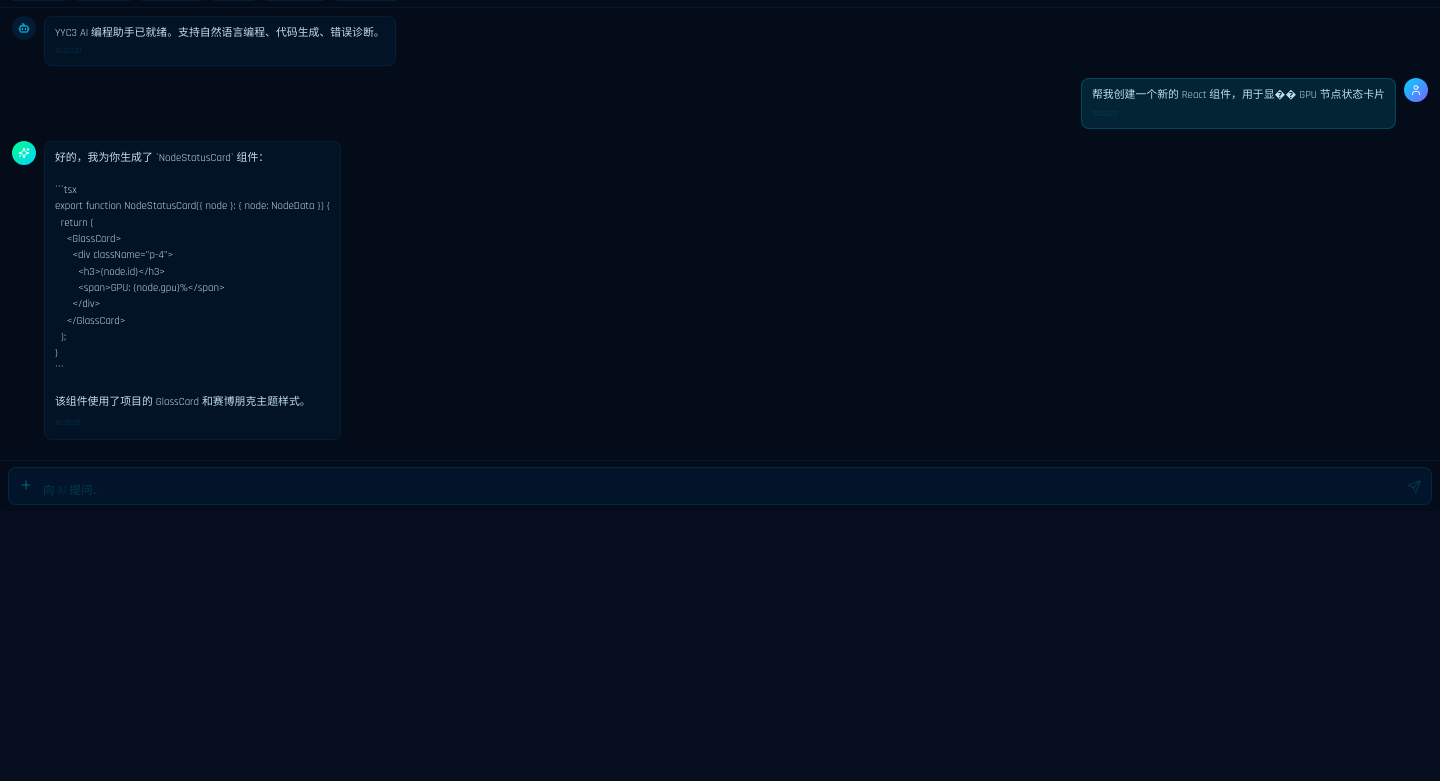
AIChatPanel › 发送消息 › 点击发送按钮发送并收到 AI 回复
Type "请为这段代码生成单元测试" into the text box with placeholder "向 AI 提问..." at point(720, 491), box [43,482,1397,500]
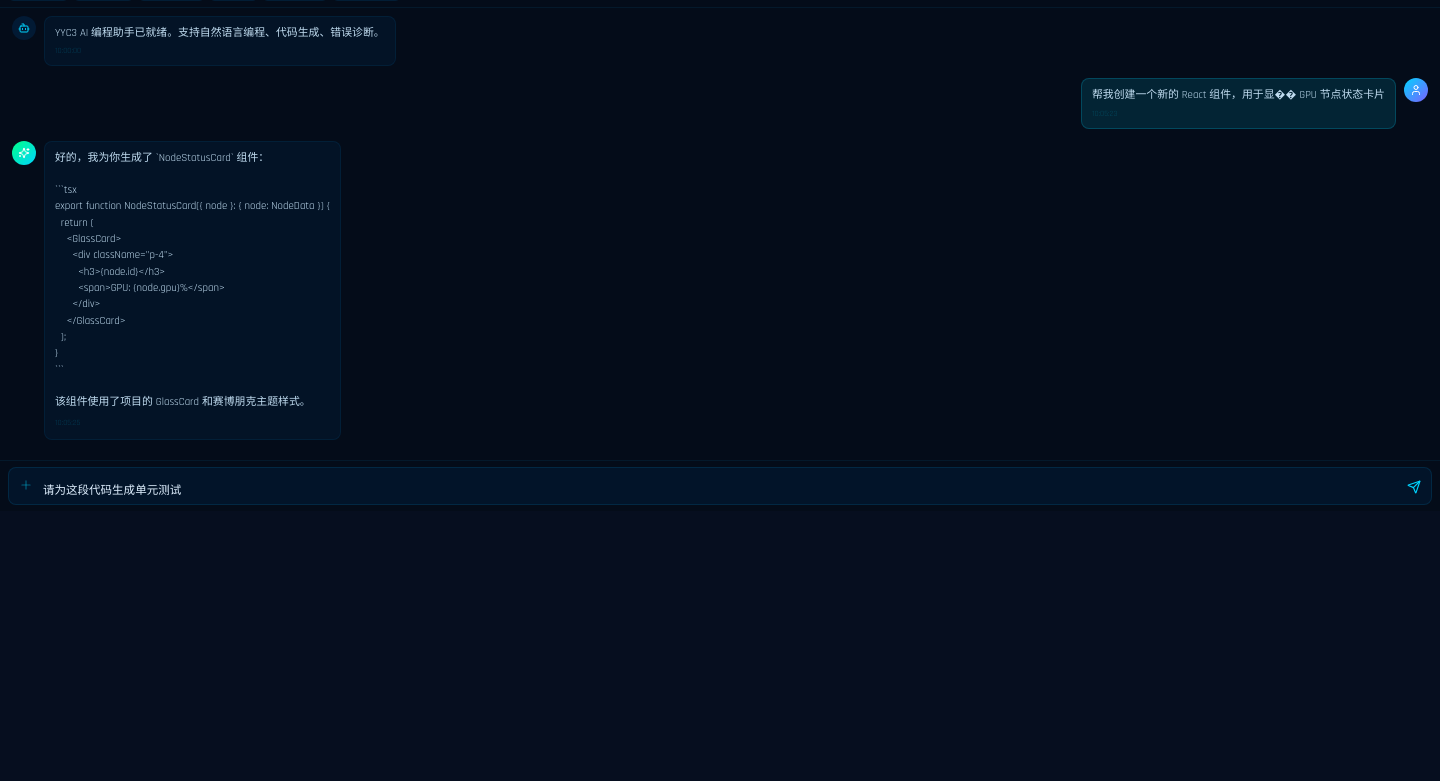
Click the 8th button at point(1414, 486), box [1401,474,1427,500]
Wait 2500 ms
(page scrolled)
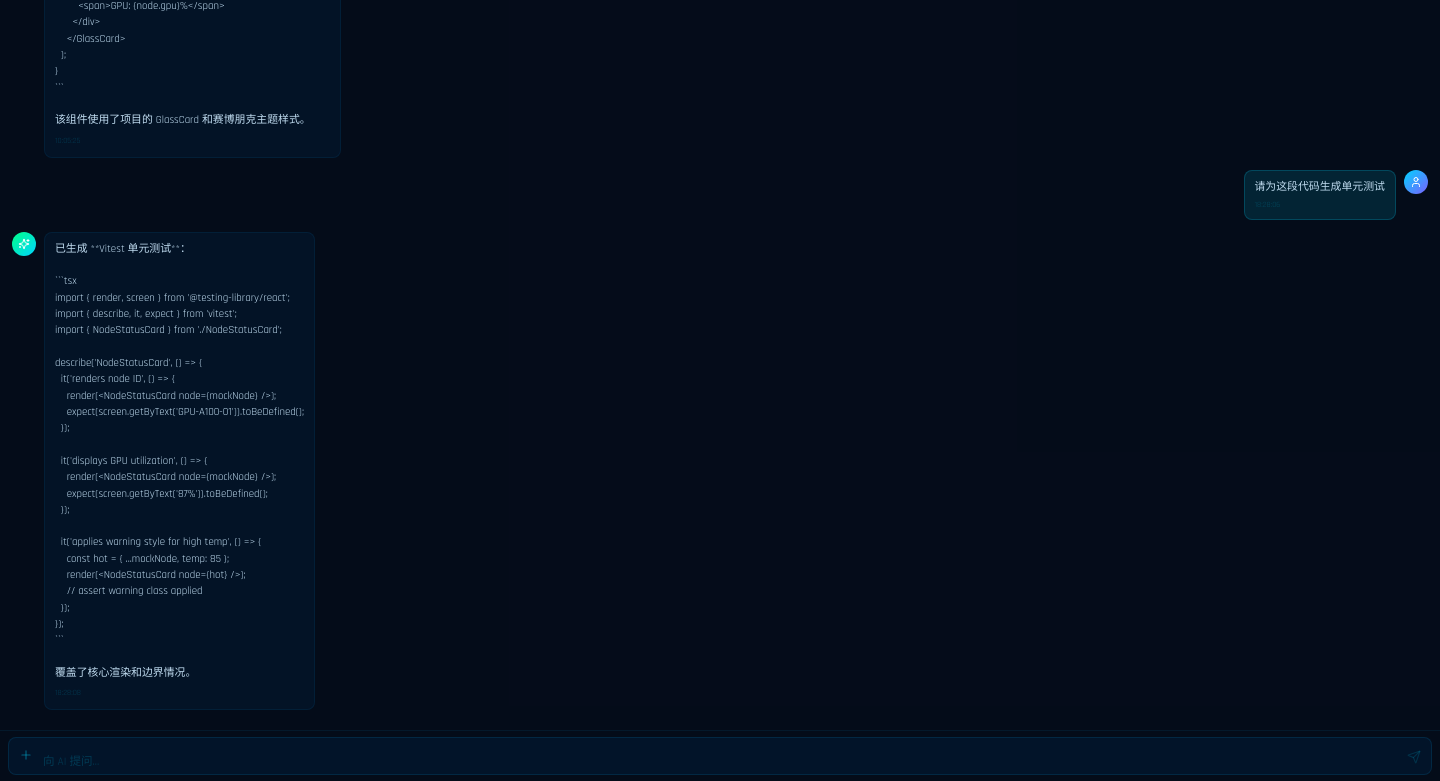
Check: the text "Vitest 单元测试" is shown, box [55,242,304,680]
